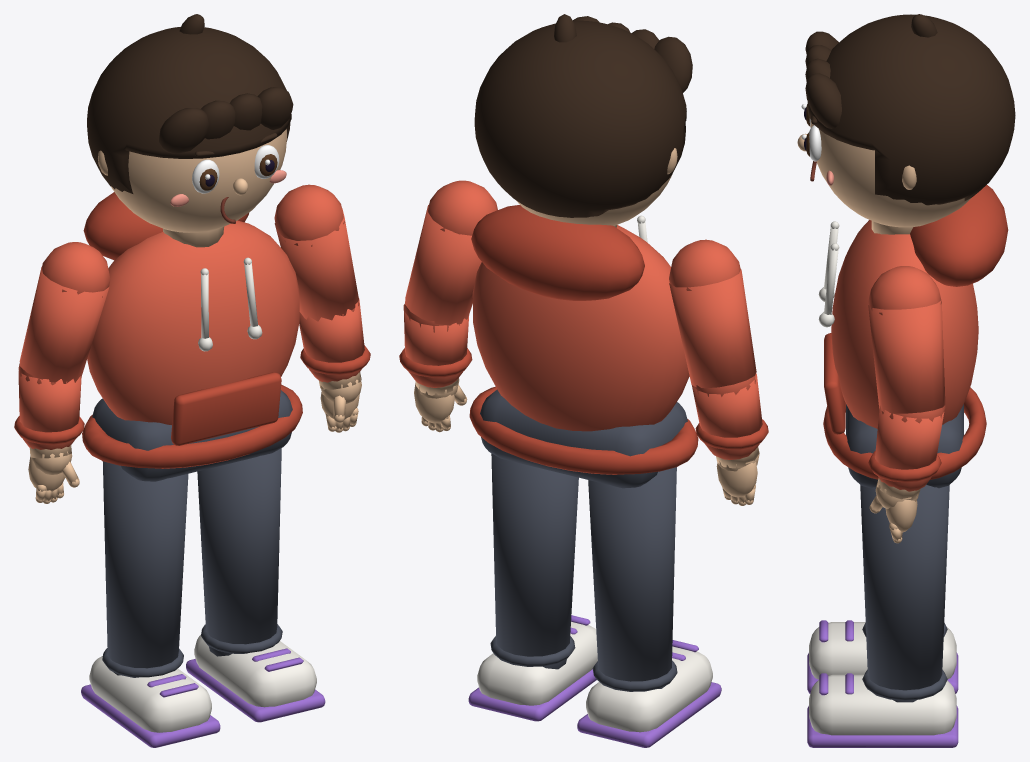
Rendered from boy.glb.
3 views of the same model, side by side, from view 1: azimuth 30°, elevation 25°; view 2: azimuth 150°, elevation 25°; view 3: azimuth 270°, elevation 25° (orthographic). The views are drawn at different scales.
Parts seen in each view (by area): view 1: boy; view 2: boy; view 3: boy.
Boxes of the visible parts, x1,y1,x2,y2 form: boy: (14,14,370,747); boy: (399,14,768,747); boy: (797,14,1015,747).
Bounding box in the file's own units: 0.9216 × 1.7 × 0.4831.
